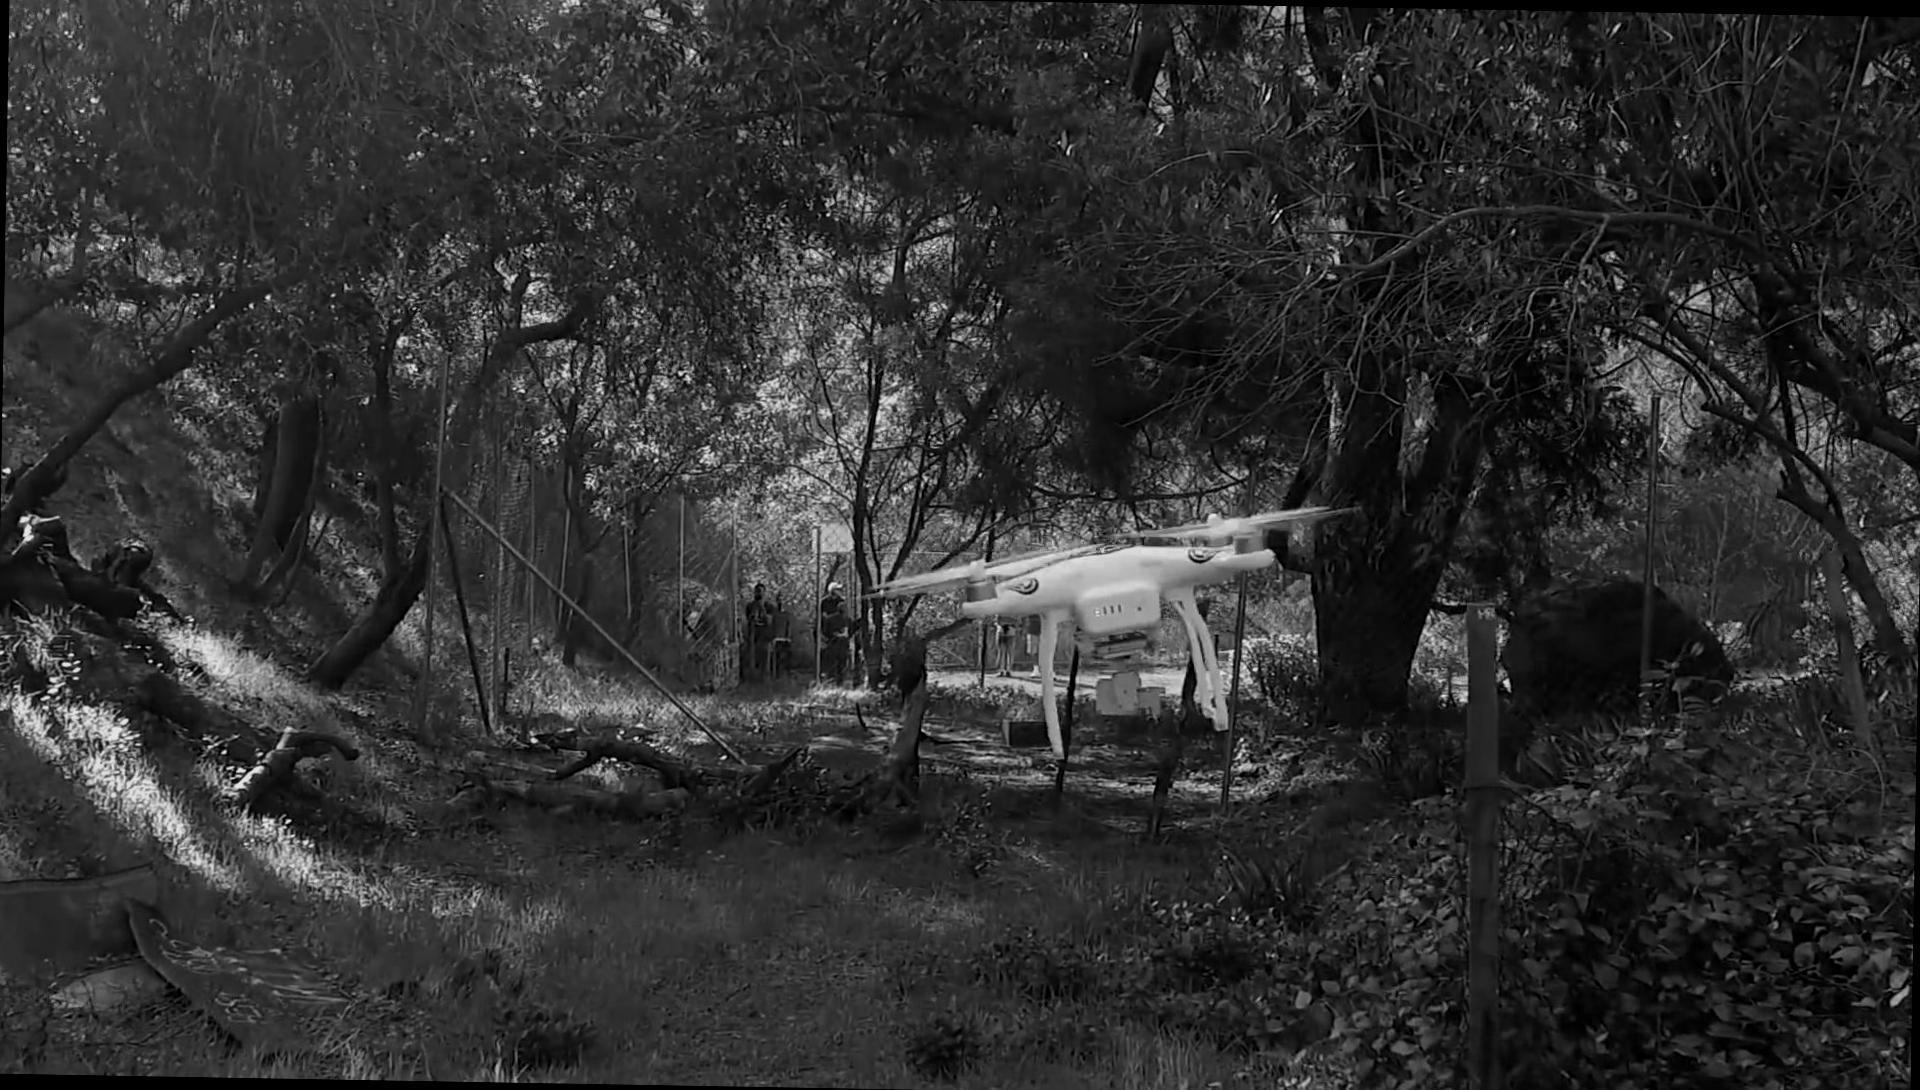drone: (864, 489, 1358, 766)
